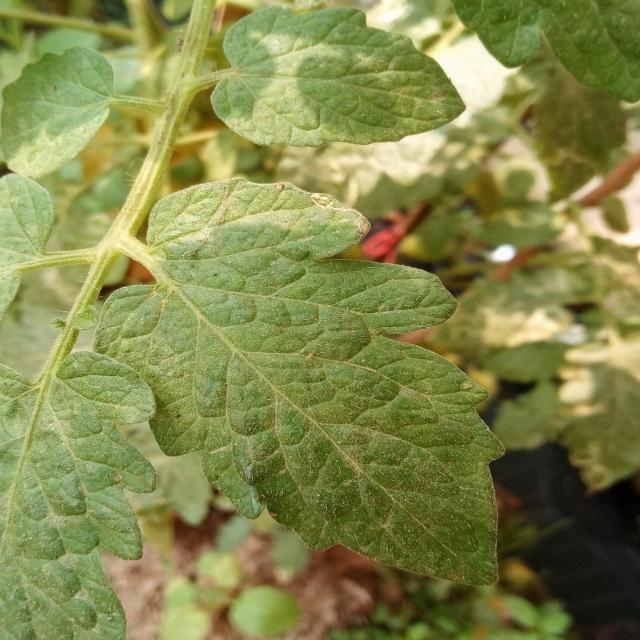Healthy: (48, 128, 612, 628), (0, 352, 154, 640), (210, 6, 464, 147)
